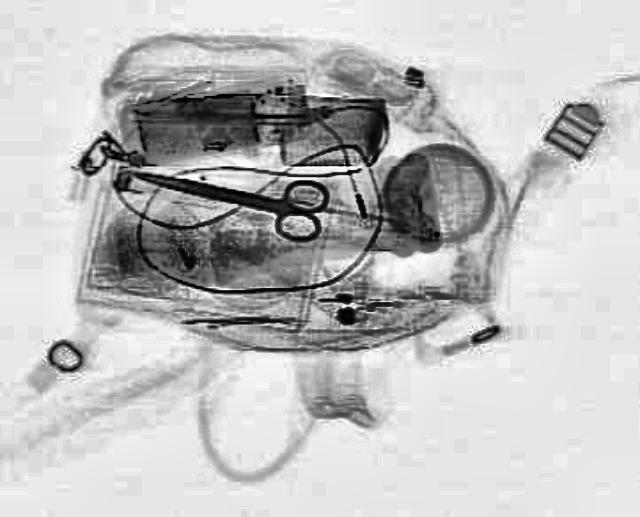Scissors: (121, 142, 335, 242)
